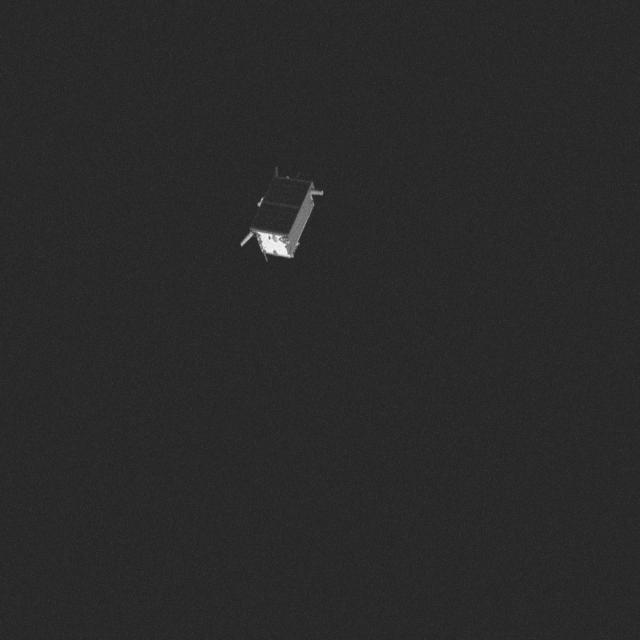medium_debris: (232, 166, 330, 266)
